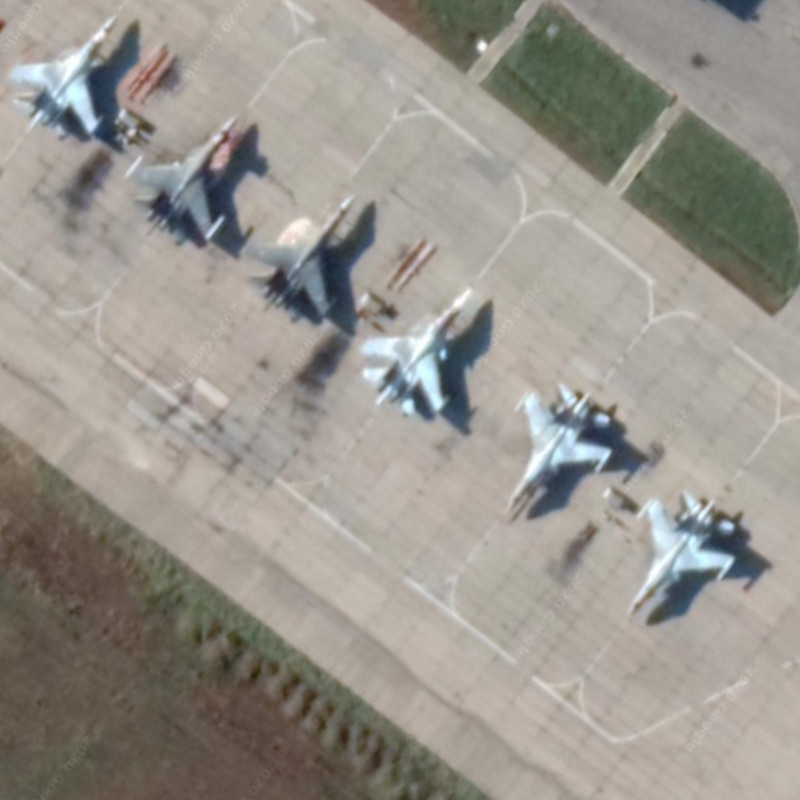A1: (494, 374, 621, 520), (353, 282, 480, 422), (7, 3, 129, 142), (618, 489, 744, 623), (241, 187, 363, 324), (126, 111, 248, 245)
